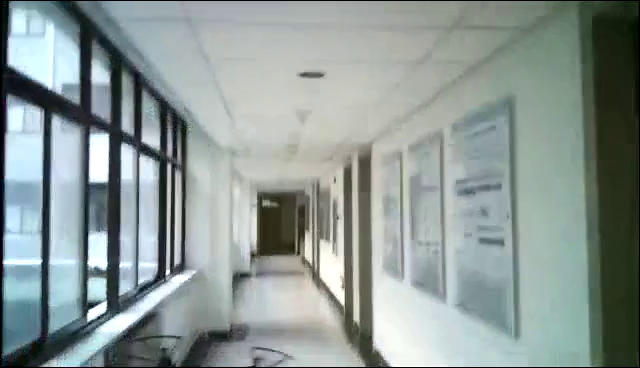drone: (109, 333, 296, 368)
